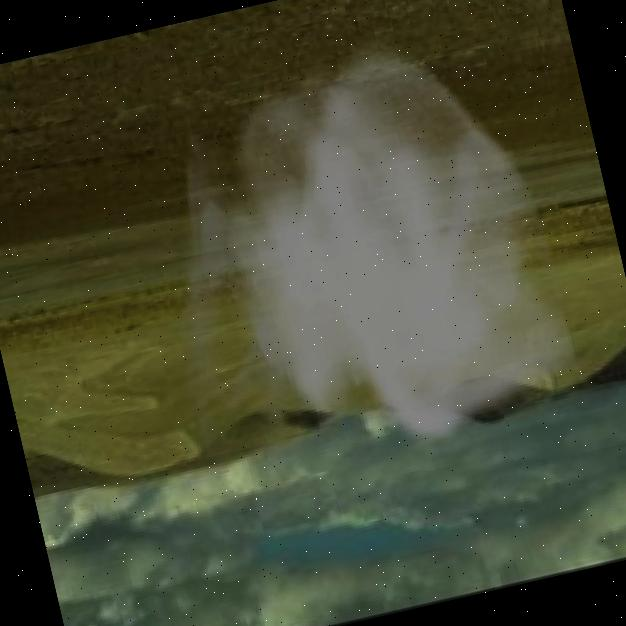smoke: (113, 1, 602, 499)
